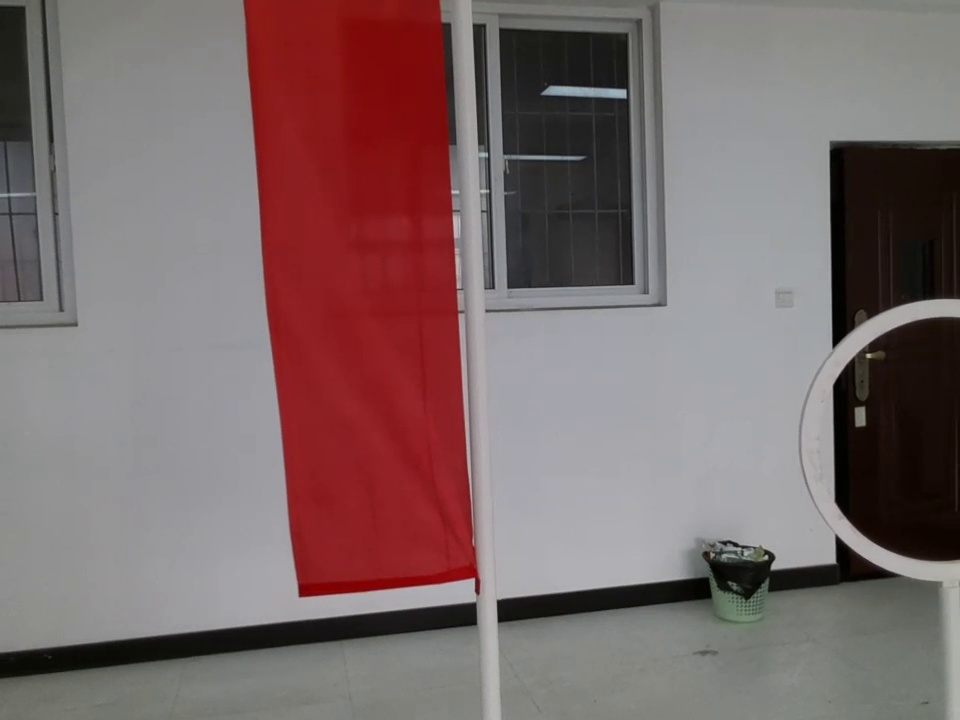qi: (237, 1, 500, 610)
quan: (791, 291, 960, 612)
